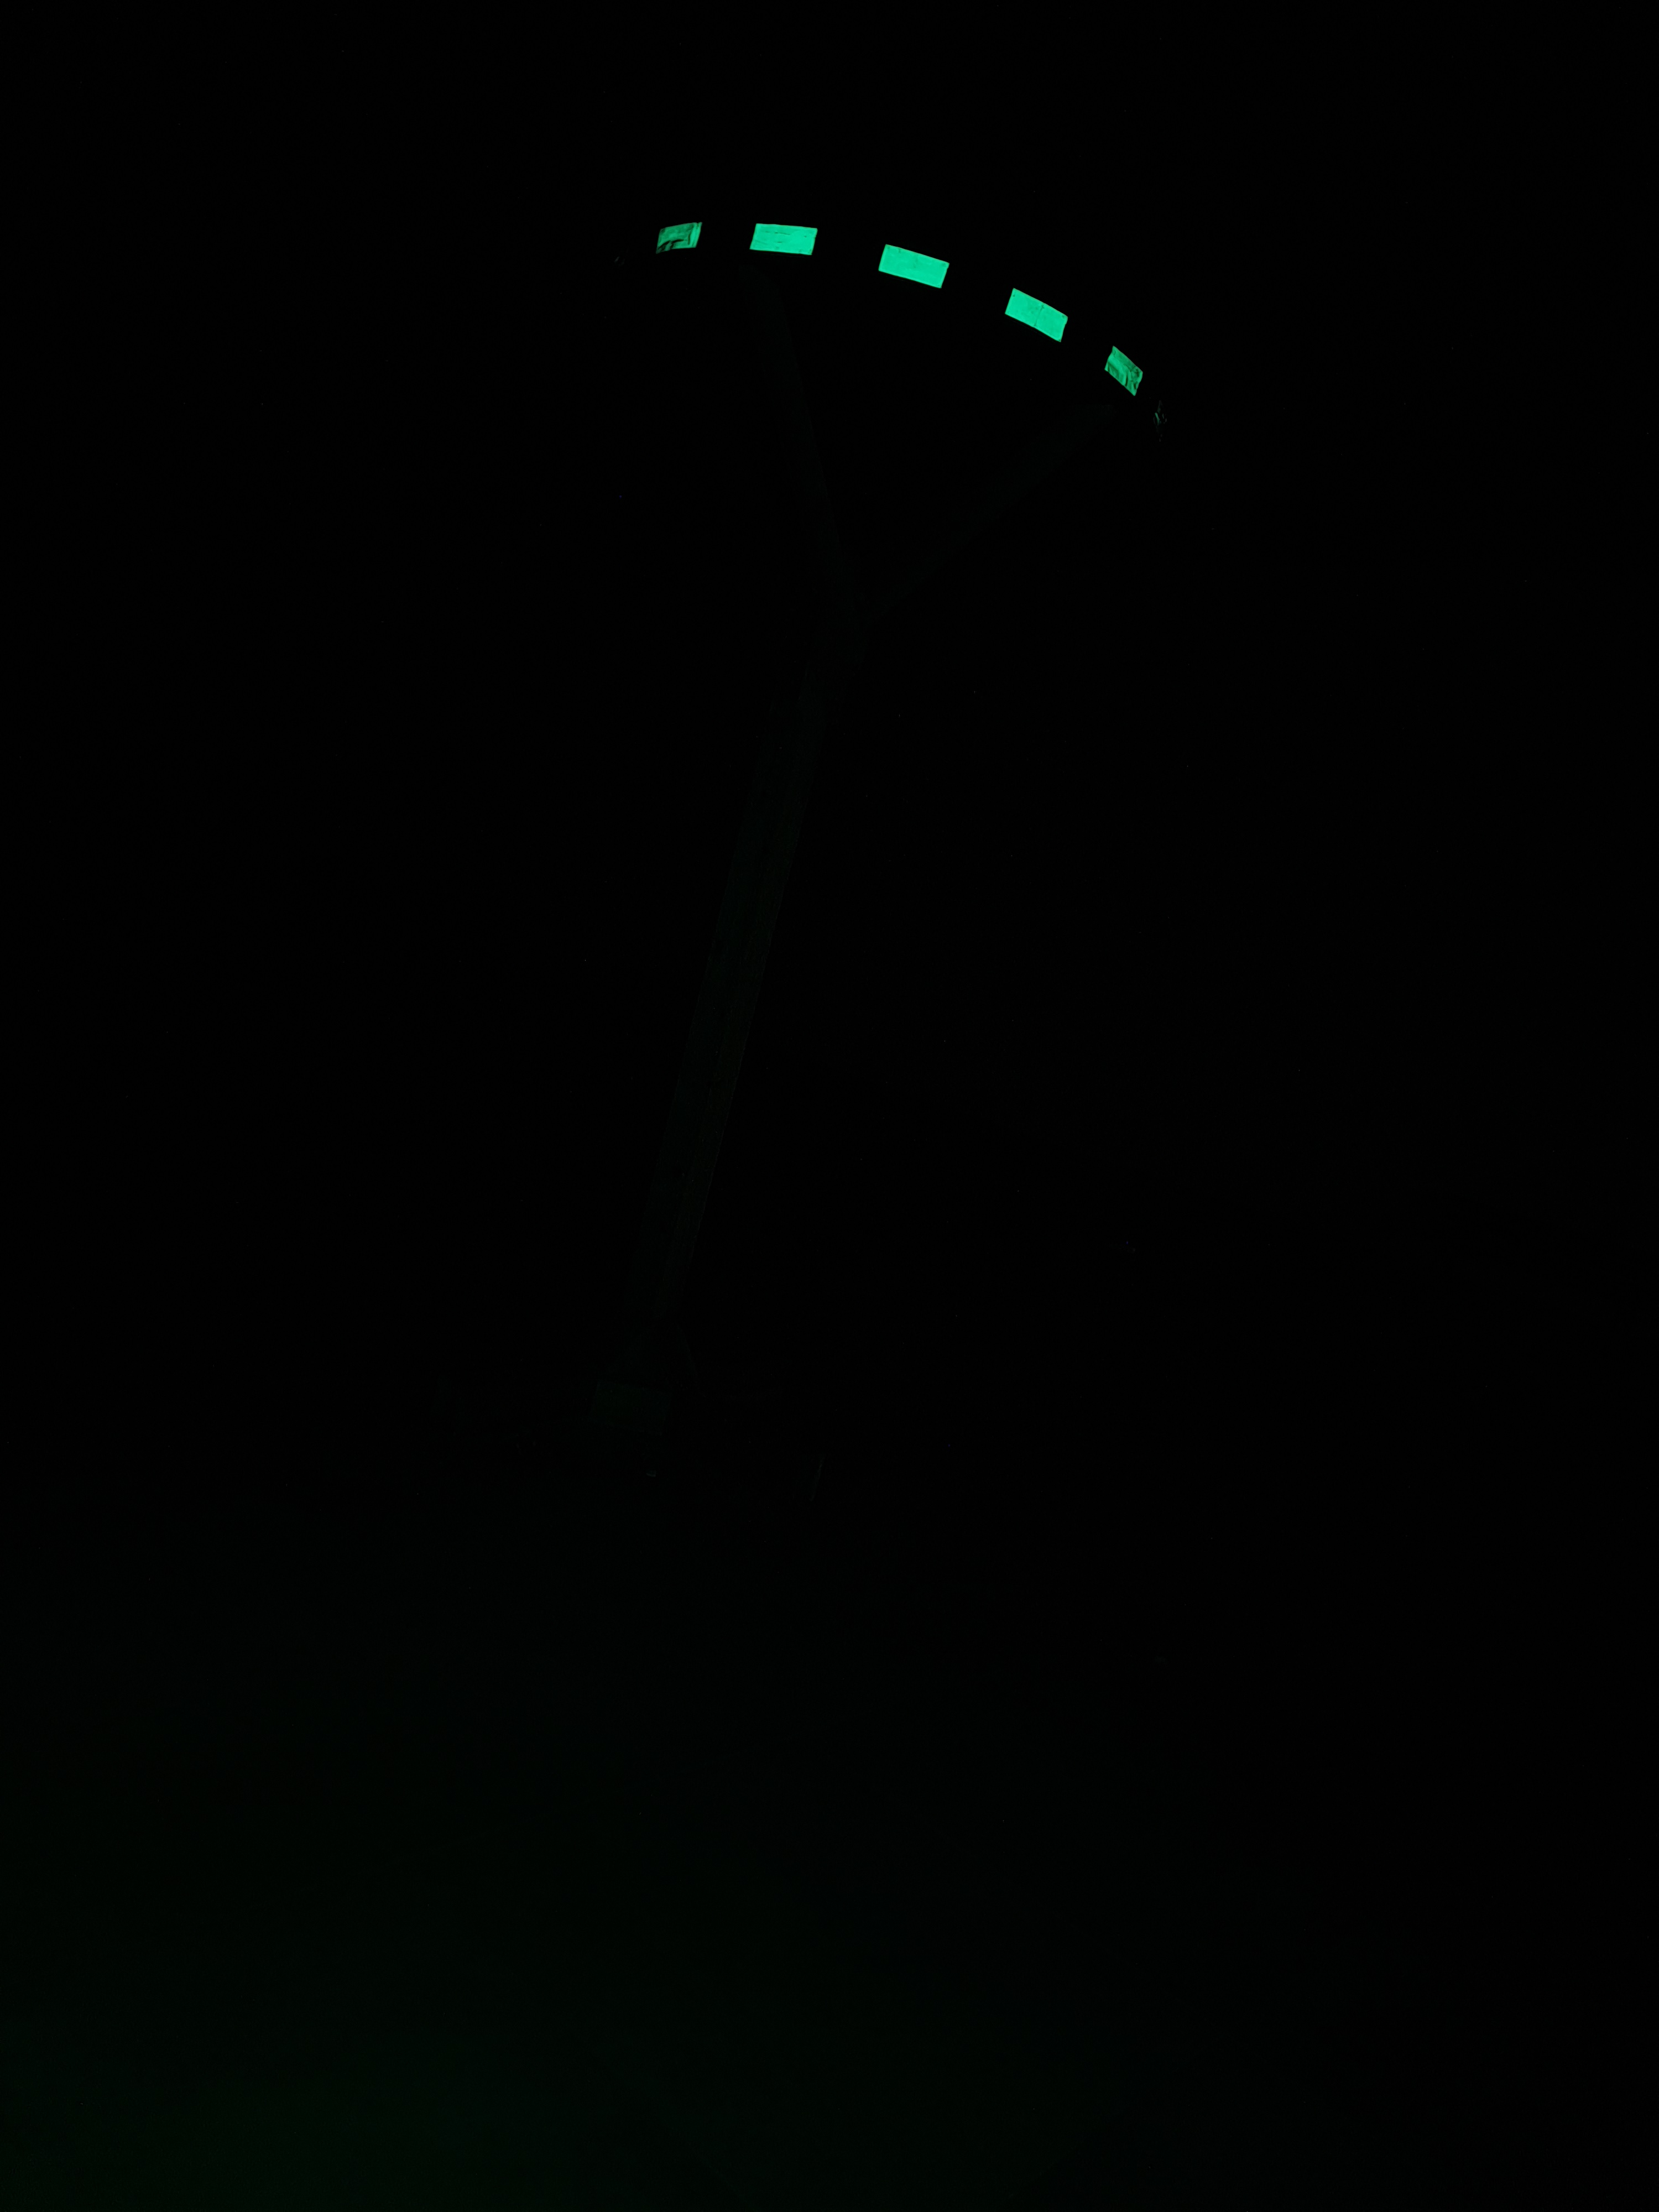hoop: (655, 216, 1145, 399)
